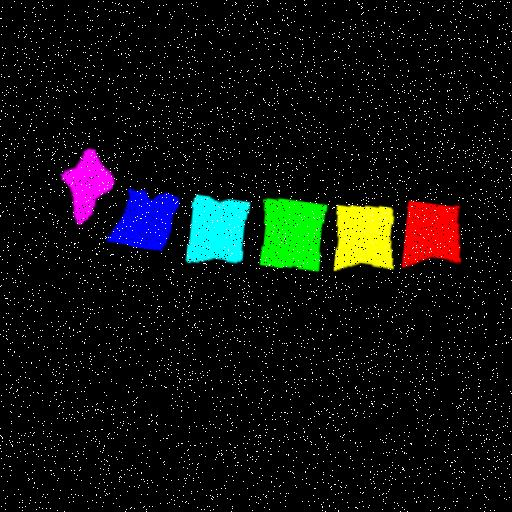L1: (404, 193, 462, 258)
L2: (335, 198, 395, 263)
L3: (261, 193, 327, 265)
L4: (189, 191, 249, 259)
L5: (110, 186, 180, 247)
S1: (64, 146, 114, 222)
